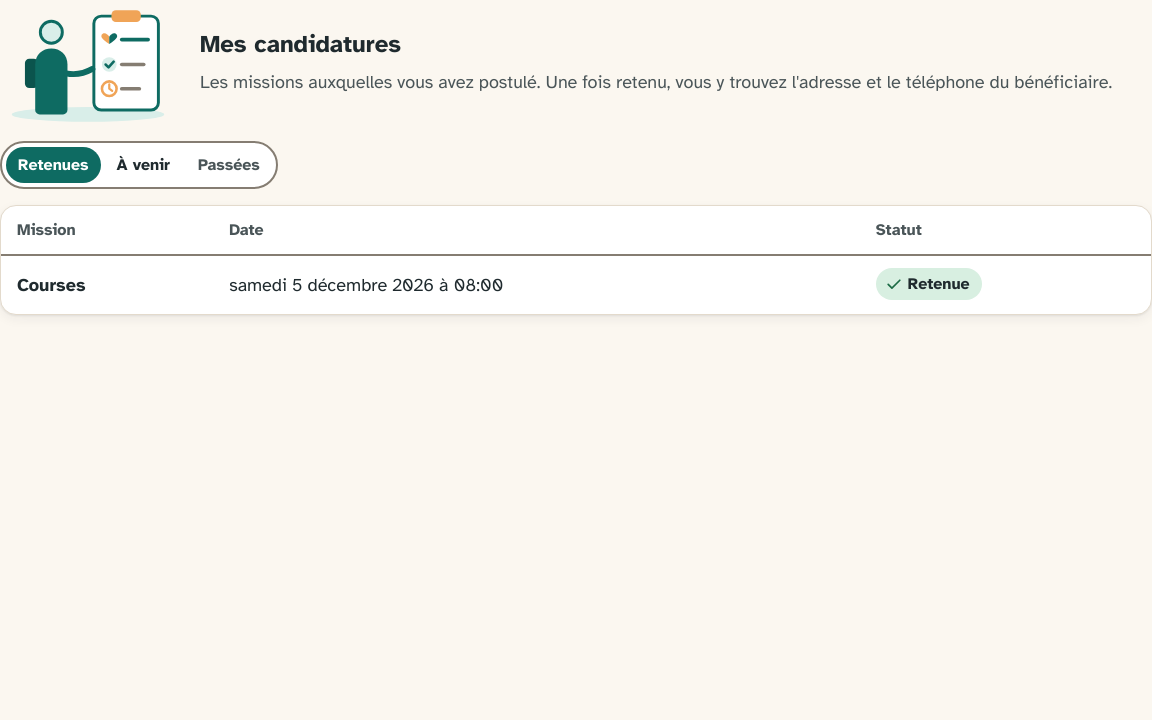
Test: StudentApplicationsTable › shows the presentation of the beneficiary to the retained student
Click the row that starts with "Courses" at (366, 285), box [1, 256, 1151, 314]
(page scrolled)
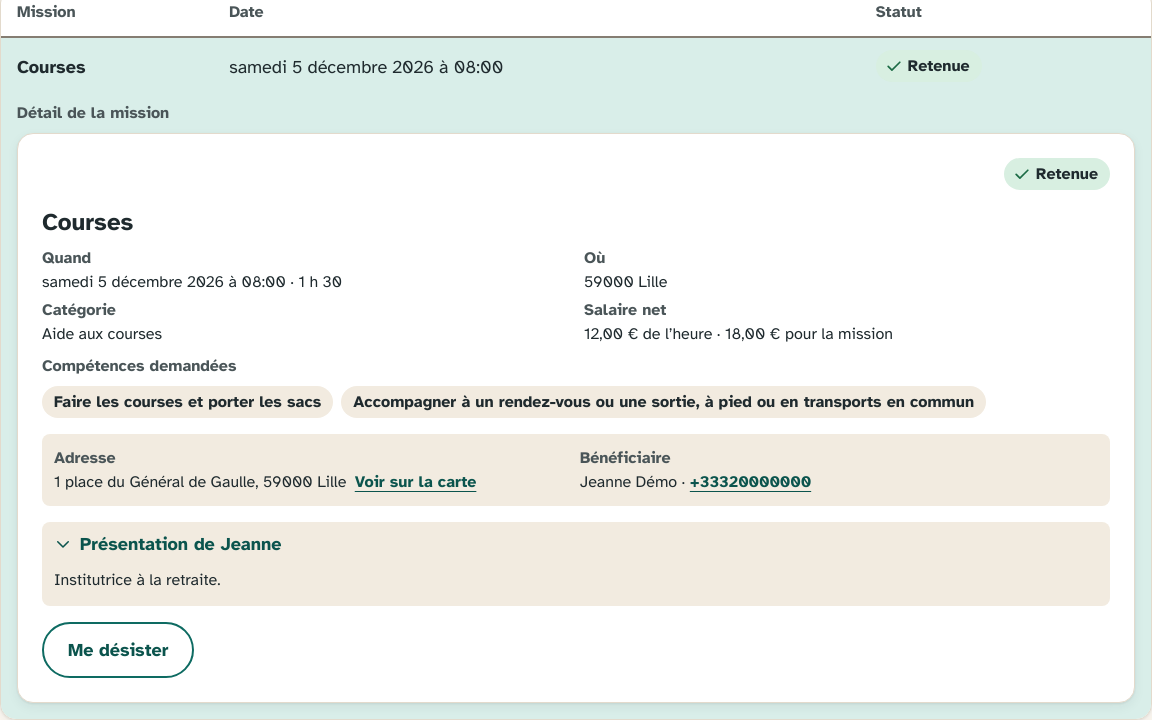
Check: the heading "Présentation de Jeanne" is shown, box [54, 533, 281, 555]
Check: the element showing "Présentation de Jeanne Institutrice à la retraite." is shown, box [42, 522, 1110, 606]
